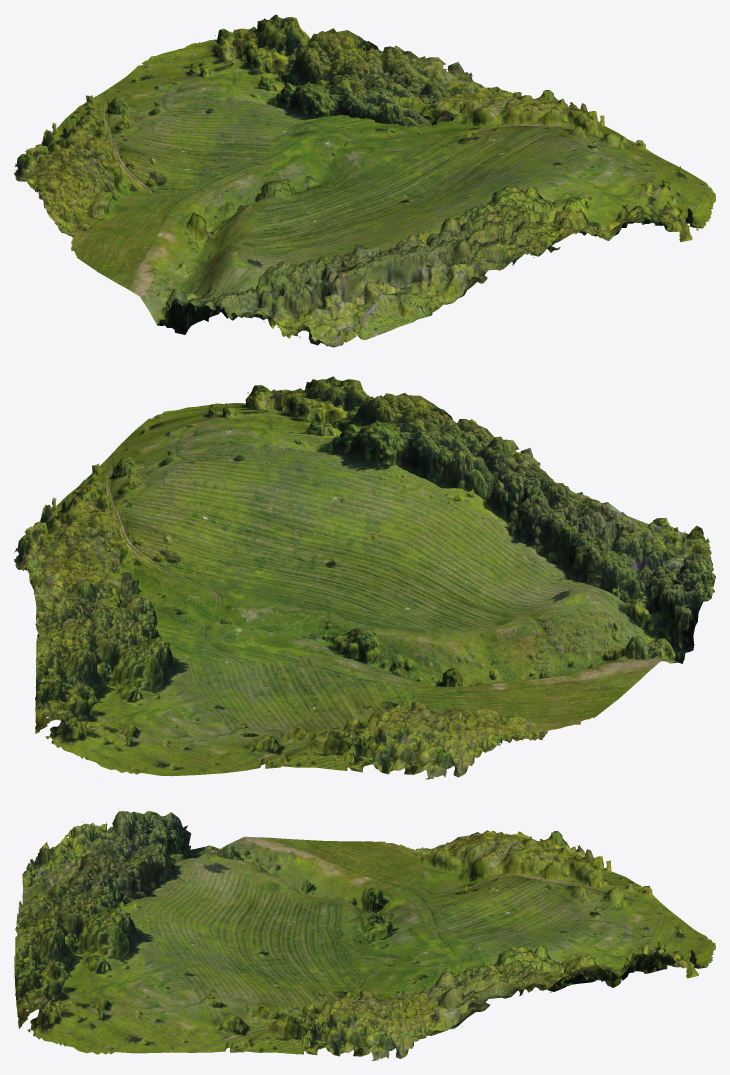
Rendered from terrian2.glb.
The picture shows the model from 3 angles, top to bottom: view 1: azimuth 30°, elevation 25°; view 2: azimuth 150°, elevation 25°; view 3: azimuth 270°, elevation 25°; orthographic projection. The views are drawn at different scales.
Visible parts, largest first — view 1: Object_2.001; view 2: Object_2.001; view 3: Object_2.001.
Boxes of the visible parts, bbox=[...] form: Object_2.001: bbox=[14, 14, 715, 347]; Object_2.001: bbox=[14, 376, 715, 779]; Object_2.001: bbox=[14, 811, 715, 1060].
Size of the model in its own units: 251 by 47.19 by 294.
1 material, 1 textured.
